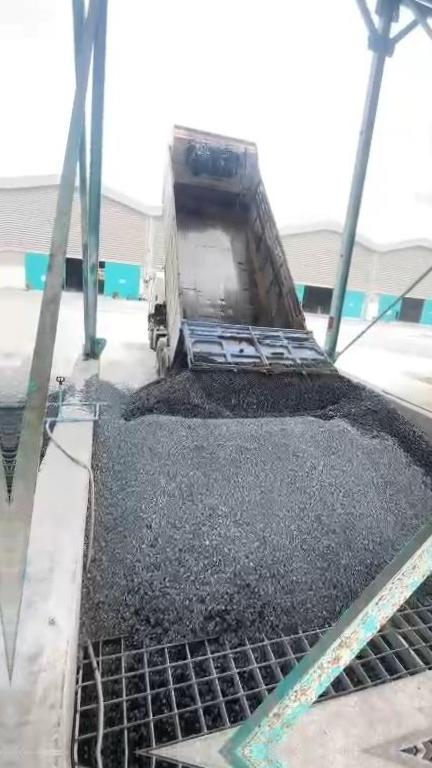gravel: (82, 401, 432, 641), (124, 372, 432, 477), (69, 375, 136, 413), (8, 399, 24, 497), (45, 391, 58, 430)
sand: (419, 377, 432, 417)
